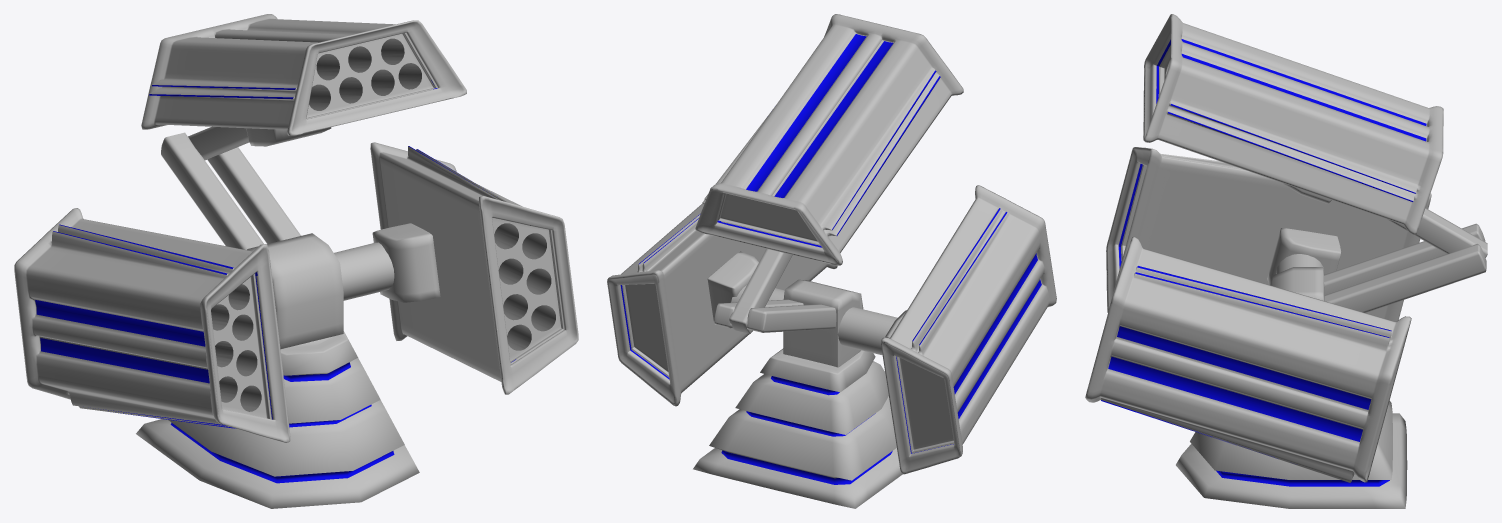
File: Rocket_Turret_MatGlow.fbx
3 views of the same model, side by side, from view 1: azimuth 30°, elevation 25°; view 2: azimuth 150°, elevation 25°; view 3: azimuth 270°, elevation 25° (orthographic). The views are drawn at different scales.
Visible parts, largest first — view 1: pCube19, pCube20, pCube18, polySurface80, polySurface81, pCube17, pCube15; view 2: pCube18, pCube19, polySurface80, pCube20, polySurface81, pCube17, pCube15; view 3: pCube20, pCube18, pCube19, polySurface80, pCube17, polySurface81, pCube15.
Part boxes in pixels (x1,y1,x2,y2): pCube19: (14,208,290,442); pCube20: (370,142,578,394); pCube18: (141,14,466,146); polySurface80: (136,331,419,508); polySurface81: (247,233,394,349); pCube17: (161,132,300,249); pCube15: (188,126,249,160); pCube18: (695,14,963,265); pCube19: (881,185,1056,474); polySurface80: (693,348,902,508); pCube20: (607,203,837,406); polySurface81: (731,279,897,367); pCube17: (714,299,836,332); pCube15: (729,248,792,333); pCube20: (1085,236,1411,482); pCube18: (1143,14,1443,234); pCube19: (1106,147,1431,321); polySurface80: (1176,401,1407,508); pCube17: (1324,223,1486,312); polySurface81: (1270,254,1324,300); pCube15: (1385,208,1487,257).
Bounding box in the file's own units: 51.16 × 53.85 × 45.74.
